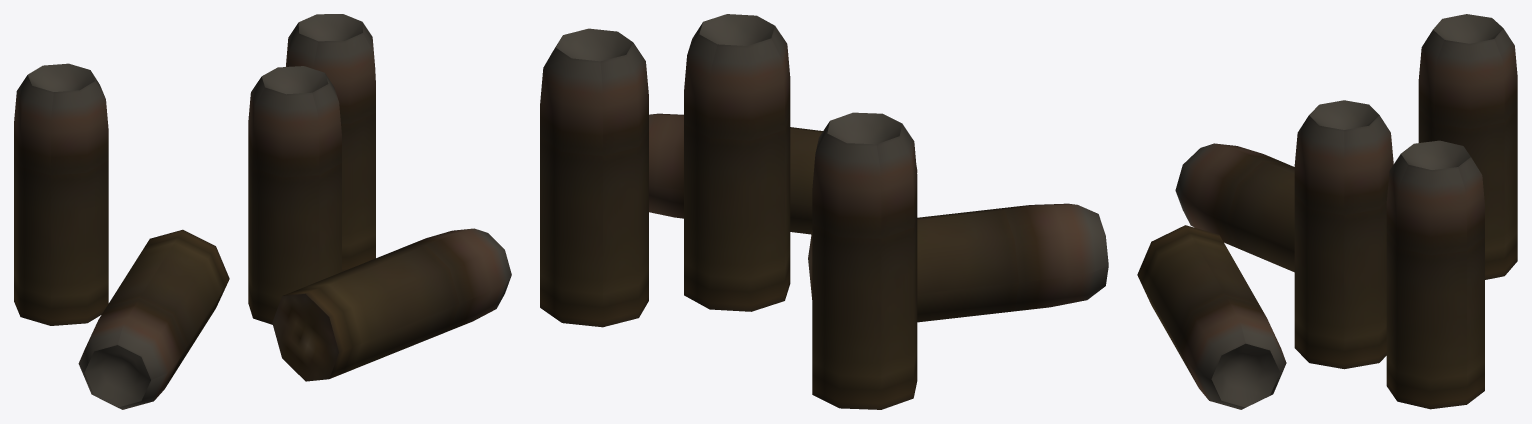
Rendered from ammo_pistol_loose_5pcs_mp_2.obj.
The picture shows the model from 3 angles, left to right: view 1: azimuth 30°, elevation 25°; view 2: azimuth 150°, elevation 25°; view 3: azimuth 270°, elevation 25°; orthographic projection. The views are drawn at different scales.
Visible parts, largest first — view 1: ammo_pistol_loose_5pcs_mp_2; view 2: ammo_pistol_loose_5pcs_mp_2; view 3: ammo_pistol_loose_5pcs_mp_2.
Part boxes in pixels (x1=…): ammo_pistol_loose_5pcs_mp_2: x1=14, y1=14, x2=511, y2=409; ammo_pistol_loose_5pcs_mp_2: x1=540, y1=14, x2=1108, y2=409; ammo_pistol_loose_5pcs_mp_2: x1=1137, y1=14, x2=1517, y2=409.
Size of the model in its own units: 2.02 by 1.05 by 1.55.
Materials: 1 (1 with a texture image).
